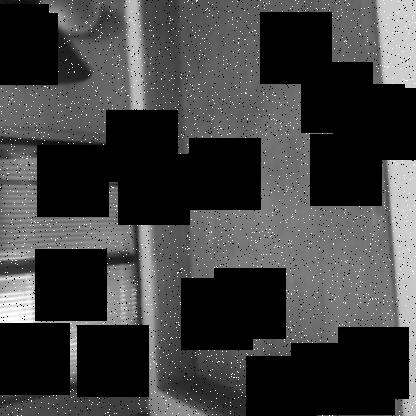Porte: (138, 1, 404, 415)
